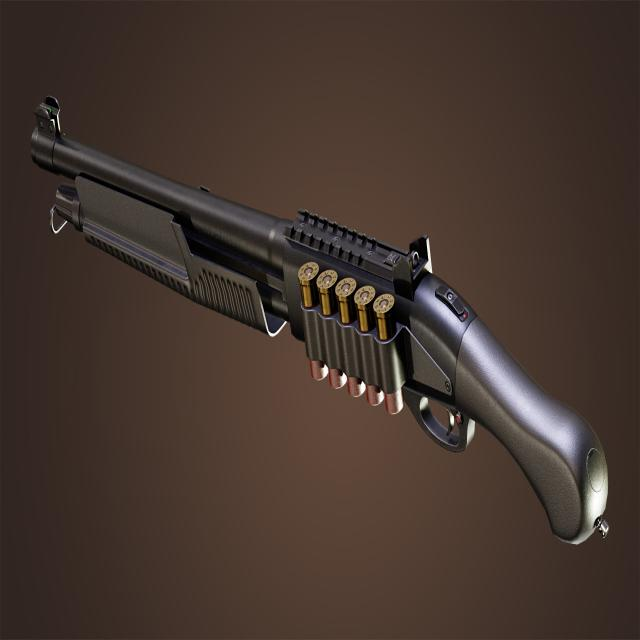ShotGun: (31, 96, 611, 548)
